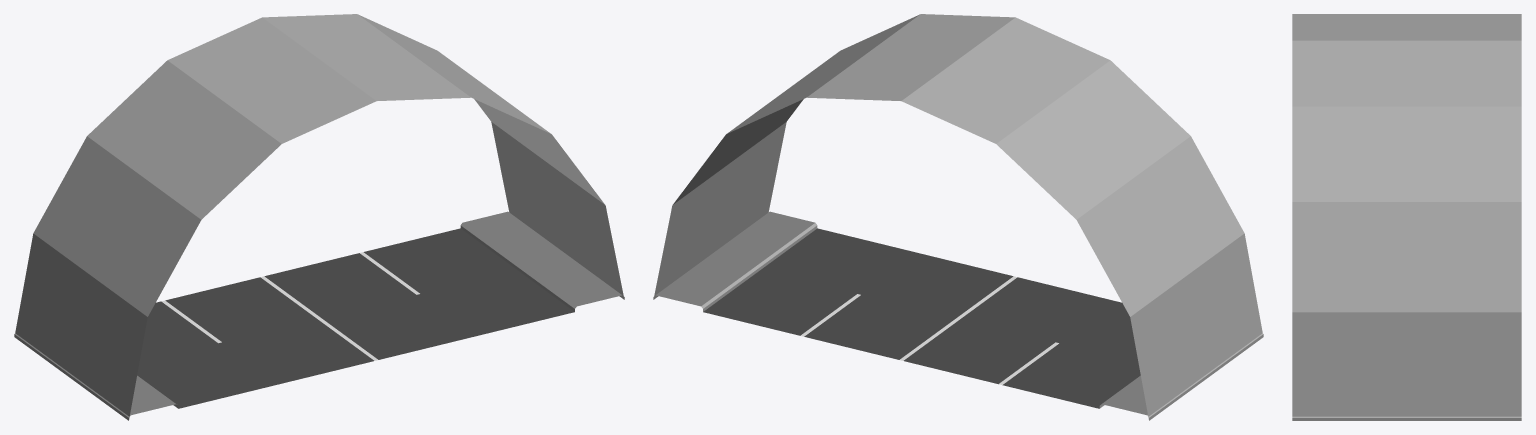
Rendered from wideHighwayMountainpass.glb.
The picture shows the model from 3 angles, left to right: view 1: azimuth 30°, elevation 25°; view 2: azimuth 150°, elevation 25°; view 3: azimuth 270°, elevation 25°; orthographic projection.
Visible parts, largest first — view 1: Tunnel_Straight_4_mesh; view 2: Tunnel_Straight_4_mesh; view 3: Tunnel_Straight_4_mesh.
Boxes of the visible parts, bbox=[...] form: Tunnel_Straight_4_mesh: bbox=[14, 14, 624, 420]; Tunnel_Straight_4_mesh: bbox=[653, 14, 1263, 420]; Tunnel_Straight_4_mesh: bbox=[1292, 14, 1521, 420].
Size of the model in its own units: 25 by 12.5 by 10.
1 material, 1 textured.
